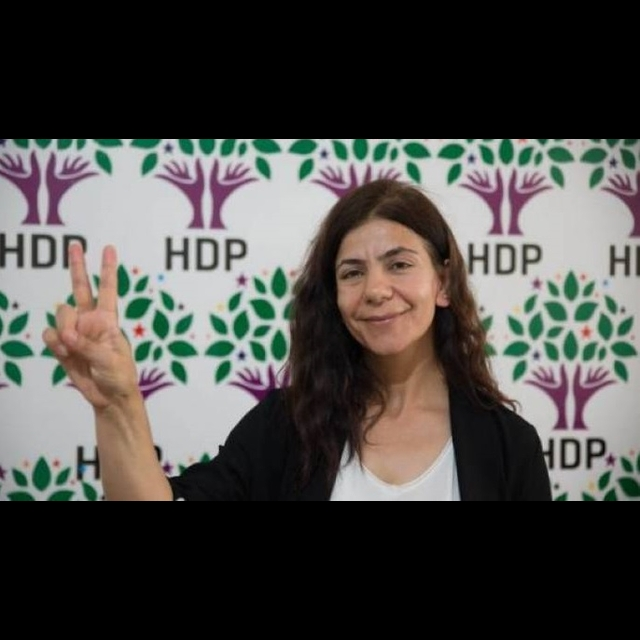HDP: (507, 271, 639, 435)
ZI: (39, 237, 153, 427)
